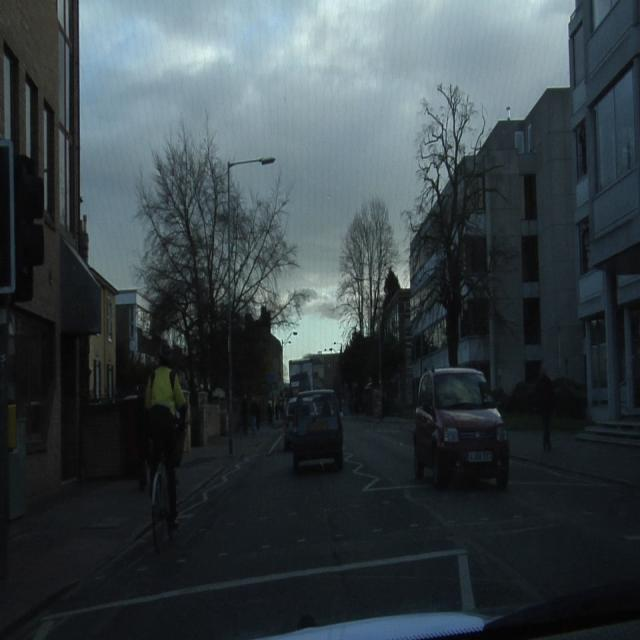Bicyclist: (147, 353, 185, 549)
Building: (1, 7, 150, 532), (463, 1, 638, 416)
Car: (415, 369, 510, 487), (286, 391, 343, 471)
Road: (19, 421, 639, 631)
Tree: (139, 127, 228, 392), (417, 81, 486, 363), (231, 180, 309, 324), (336, 198, 399, 333)
